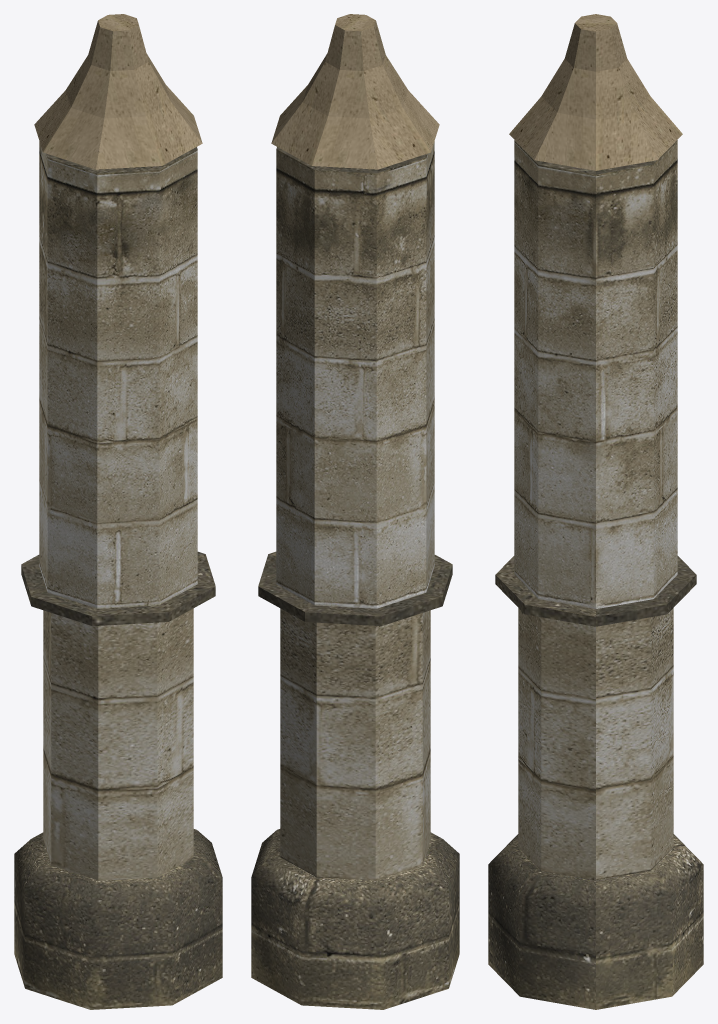
File: edge-column-3.fbx
3 views of the same model, side by side, from view 1: azimuth 30°, elevation 25°; view 2: azimuth 150°, elevation 25°; view 3: azimuth 270°, elevation 25° (orthographic).
Visible parts, largest first — view 1: edge-column-3; view 2: edge-column-3; view 3: edge-column-3.
Part boxes in pixels (box(x1,y1,x2,y2)): edge-column-3: box(14, 14, 222, 1009); edge-column-3: box(251, 14, 459, 1009); edge-column-3: box(488, 14, 703, 1009).
Size of the model in its own units: 94.75 by 457 by 94.75.
